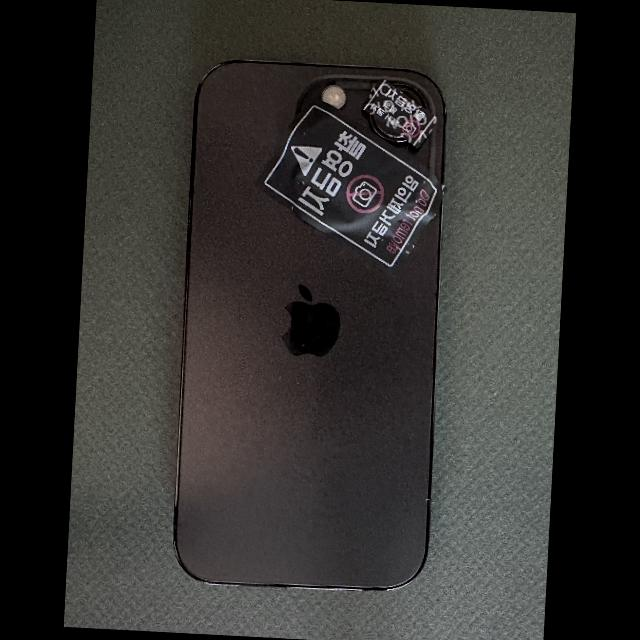lens: (393, 85, 422, 107)
phone: (172, 61, 446, 590)
sticker: (256, 99, 448, 276), (361, 80, 438, 150)
